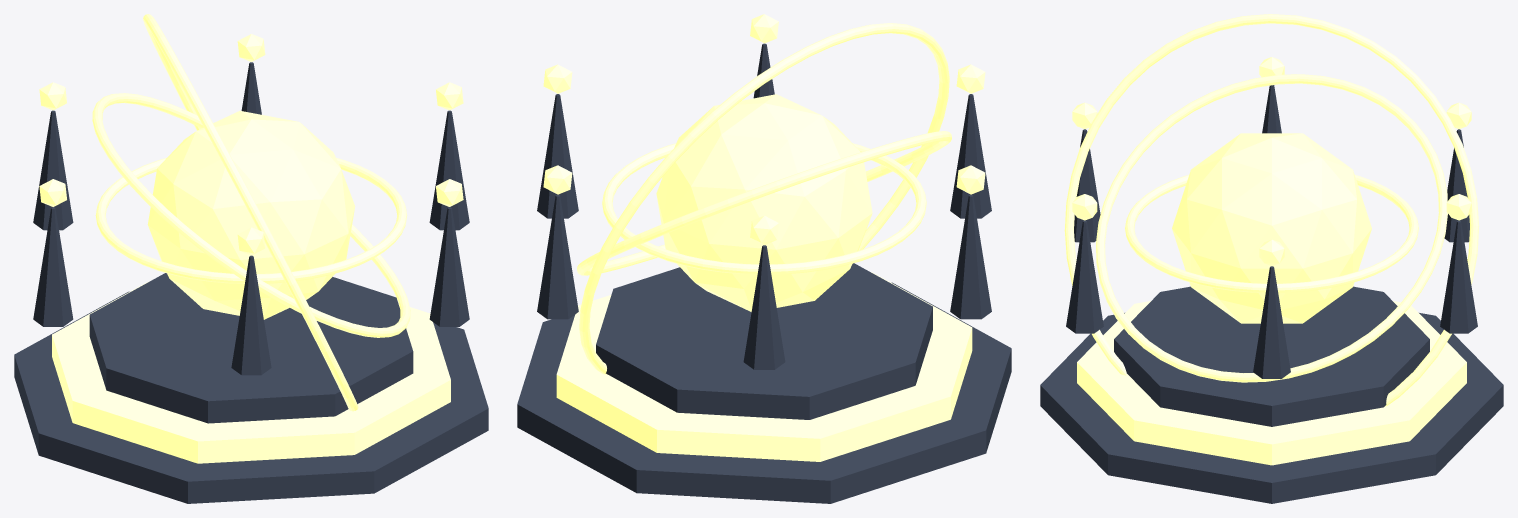
The model's file is gpu-blender-v53.glb.
3 views of the same model, side by side, from view 1: azimuth 30°, elevation 25°; view 2: azimuth 150°, elevation 25°; view 3: azimuth 270°, elevation 25° (orthographic). The views are drawn at different scales.
Visible parts, largest first — view 1: Cylinder.002, SovereignCore_web-security-guard, Cylinder, Cylinder.001, Torus.001, Torus.002, Torus, Cone.004, Cone.003, Cone.005, Cone, Cone.002 (+7 smaller); view 2: Cylinder.002, SovereignCore_web-security-guard, Cylinder, Cylinder.001, Torus.002, Torus.001, Torus, Cone.001, Cone.003, Cone.002, Cone, Cone.004 (+6 smaller); view 3: SovereignCore_web-security-guard, Cylinder.002, Cylinder, Cylinder.001, Torus.001, Torus.002, Torus, Cone.001, Cone.005, Cone, Cone.004, Cone.002 (+4 smaller).
Part boxes in pixels (bbox=[...]): Cylinder.002: bbox=[89, 273, 413, 423]; SovereignCore_web-security-guard: bbox=[147, 110, 355, 319]; Cylinder: bbox=[14, 291, 488, 503]; Cylinder.001: bbox=[52, 281, 450, 463]; Torus.001: bbox=[92, 93, 410, 337]; Torus.002: bbox=[143, 14, 358, 411]; Torus: bbox=[95, 158, 407, 283]; Cone.004: bbox=[231, 255, 271, 375]; Cone.003: bbox=[33, 207, 73, 326]; Cone.005: bbox=[429, 207, 469, 326]; Cone: bbox=[429, 110, 469, 230]; Cone.002: bbox=[33, 110, 73, 230]; Cylinder.002: bbox=[596, 263, 932, 419]; SovereignCore_web-security-guard: bbox=[656, 94, 872, 311]; Cylinder: bbox=[517, 282, 1011, 503]; Cylinder.001: bbox=[556, 272, 972, 461]; Torus.002: bbox=[579, 23, 949, 374]; Torus.001: bbox=[577, 131, 951, 275]; Torus: bbox=[602, 143, 926, 274]; Cone.001: bbox=[537, 195, 578, 319]; Cone.003: bbox=[950, 195, 991, 319]; Cone.002: bbox=[743, 245, 785, 369]; Cone: bbox=[537, 94, 578, 218]; Cone.004: bbox=[950, 94, 991, 218]; SovereignCore_web-security-guard: bbox=[1172, 133, 1371, 323]; Cylinder.002: bbox=[1114, 286, 1429, 426]; Cylinder: bbox=[1040, 313, 1503, 503]; Cylinder.001: bbox=[1077, 301, 1466, 465]; Torus.001: bbox=[1096, 74, 1447, 382]; Torus.002: bbox=[1064, 14, 1479, 406]; Torus: bbox=[1125, 175, 1418, 292]; Cone.001: bbox=[1440, 220, 1477, 333]; Cone.005: bbox=[1066, 220, 1103, 333]; Cone: bbox=[1253, 266, 1290, 378]; Cone.004: bbox=[1074, 129, 1100, 242]; Cone.002: bbox=[1444, 129, 1469, 242].
Size of the model in its own units: 4.41 by 3.72 by 4.4.
